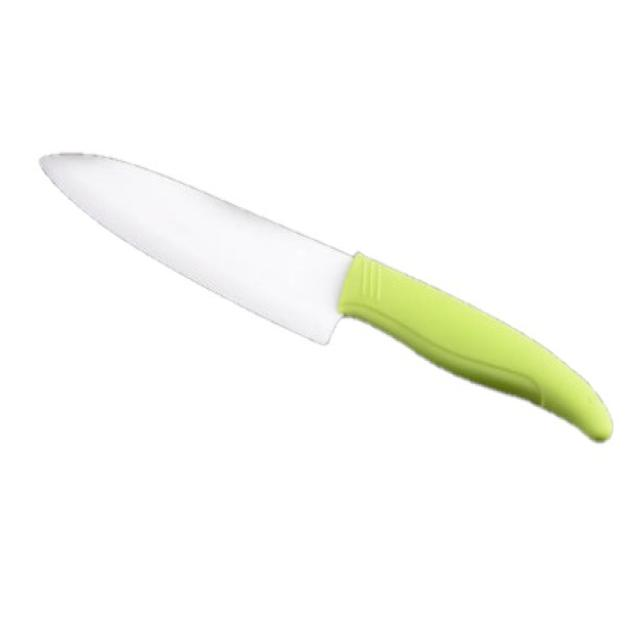knife: (32, 136, 624, 454)
